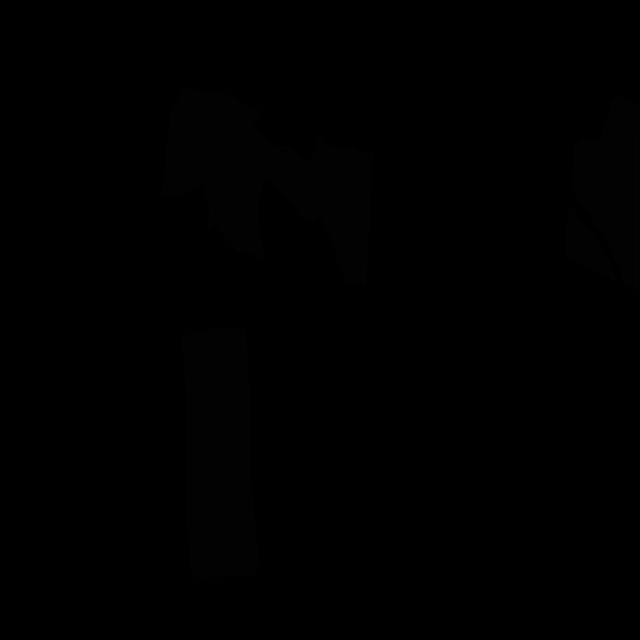cardboard: (161, 85, 374, 286), (182, 325, 260, 578), (572, 94, 640, 292), (565, 207, 618, 284)
